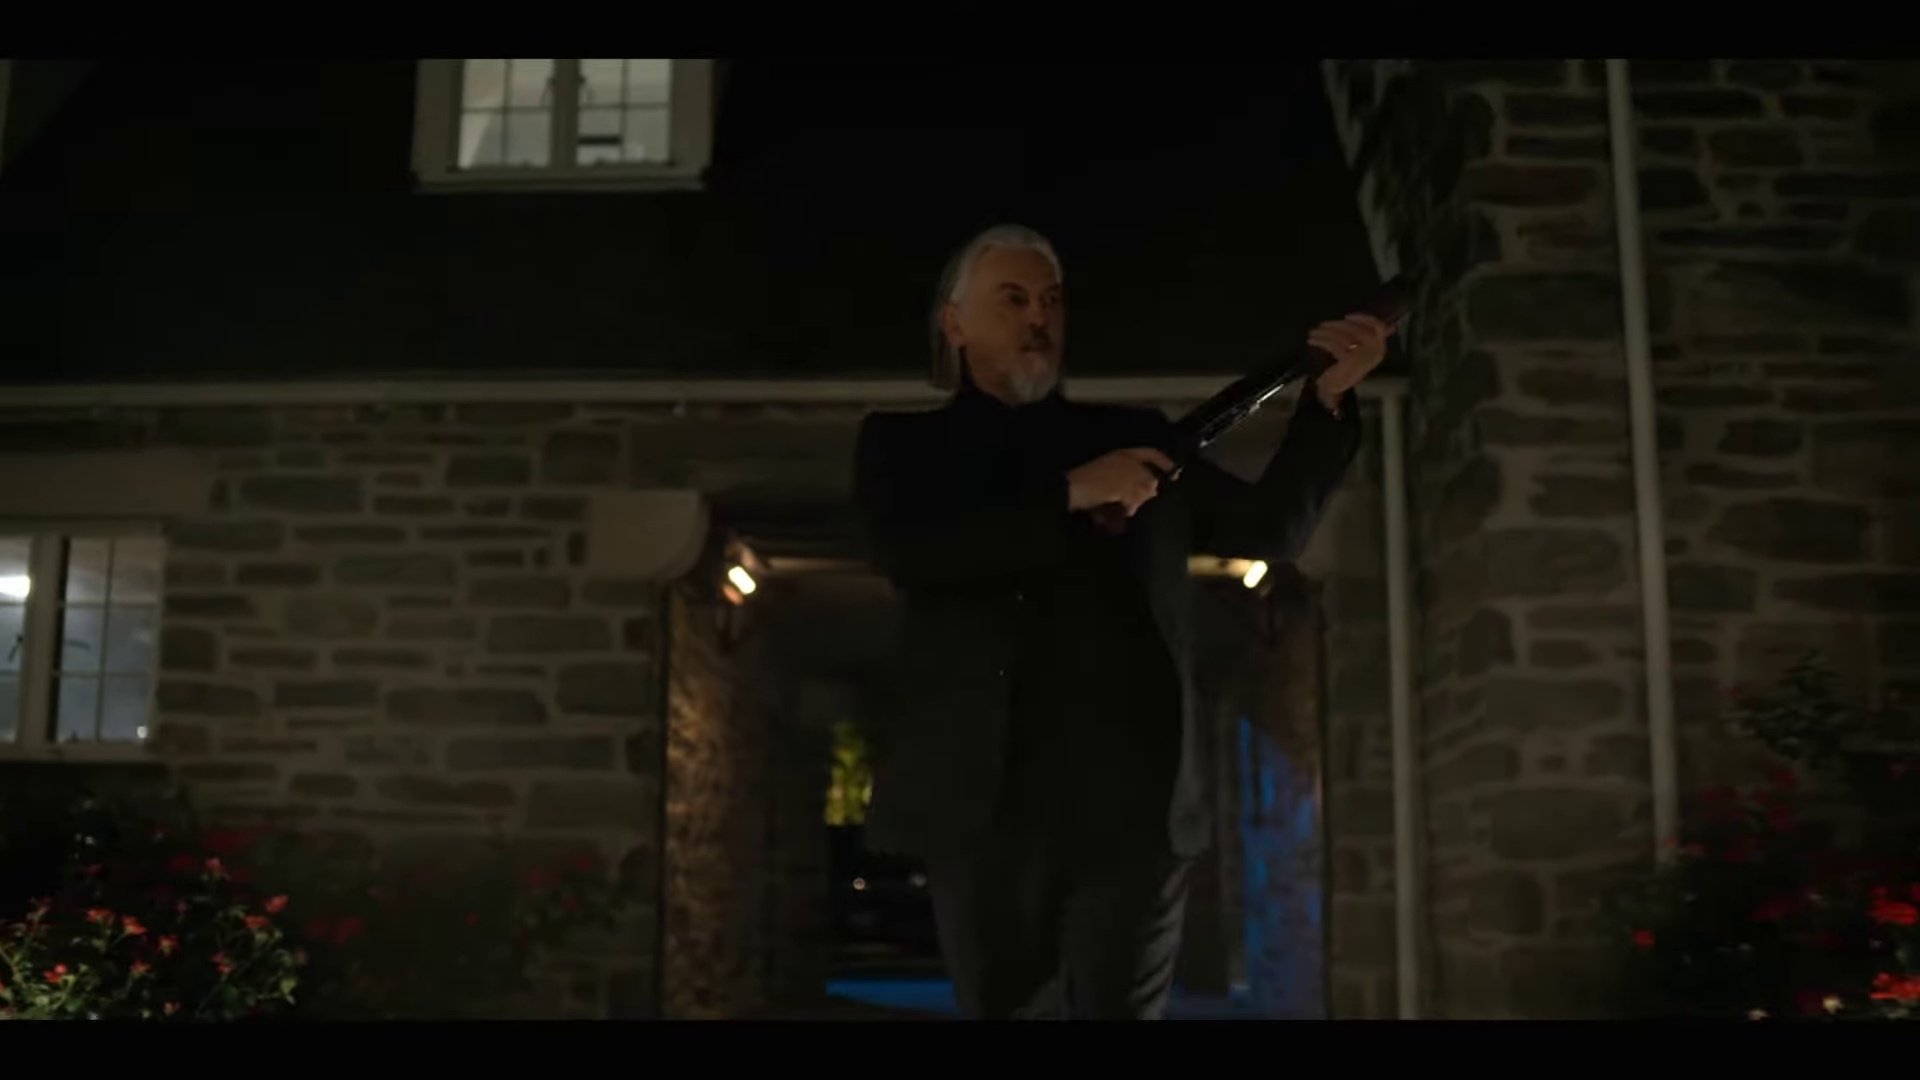gun: (1075, 256, 1445, 530)
p_w_gun: (848, 223, 1444, 996)
